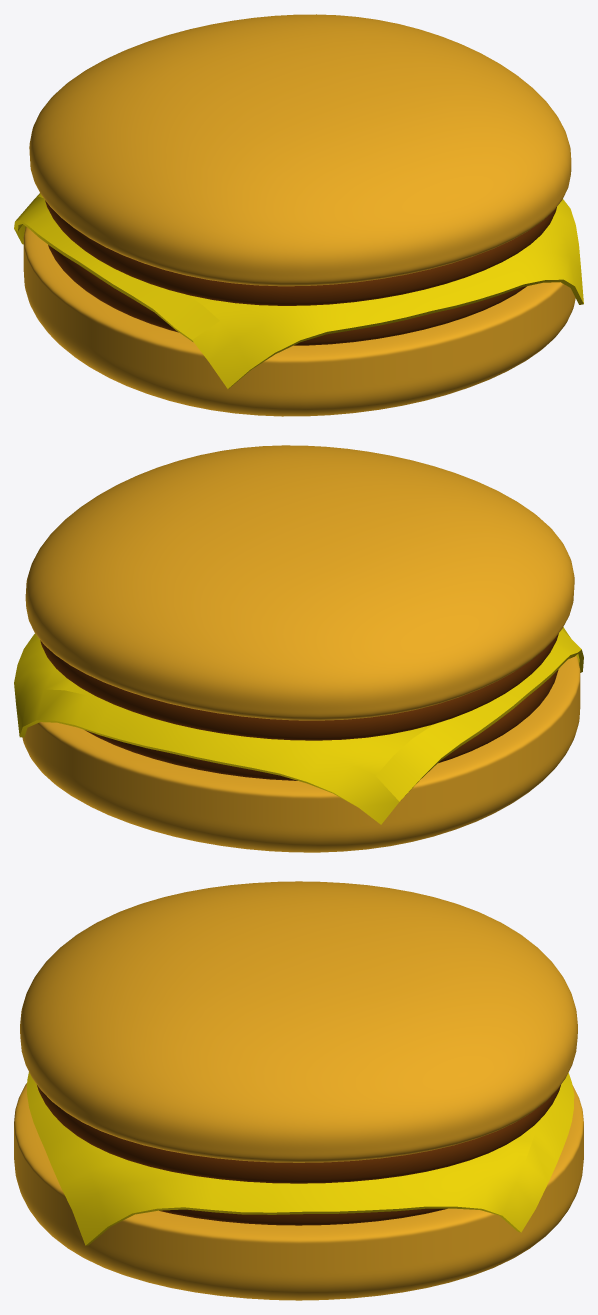
The model's file is hamburger.glb.
3 renders of one model, top to bottom at view 1: azimuth 30°, elevation 25°; view 2: azimuth 150°, elevation 25°; view 3: azimuth 270°, elevation 25°, orthographic. The views are drawn at different scales.
Parts seen in each view (by area): view 1: Cube.002, Cube, Plane, Cube.003, Cube.001; view 2: Cube.002, Cube, Plane, Cube.003, Cube.001; view 3: Cube.002, Cube, Plane, Cube.003, Cube.001.
Boxes of the visible parts, x1,y1,x2,y2 form: Cube.002: (29, 14, 571, 286); Cube: (23, 227, 575, 416); Plane: (14, 193, 583, 388); Cube.003: (45, 200, 556, 305); Cube.001: (48, 245, 526, 345); Cube.002: (25, 445, 574, 720); Cube: (22, 655, 580, 852); Plane: (14, 627, 583, 824); Cube.003: (40, 633, 558, 740); Cube.001: (85, 669, 558, 780); Cube.002: (20, 881, 577, 1162); Cube: (14, 1083, 583, 1300); Plane: (27, 1072, 574, 1245); Cube.003: (37, 1085, 560, 1183); Cube.001: (159, 1208, 447, 1225).
Bounding box in the file's own units: 8.78 × 4.66 × 8.78.
